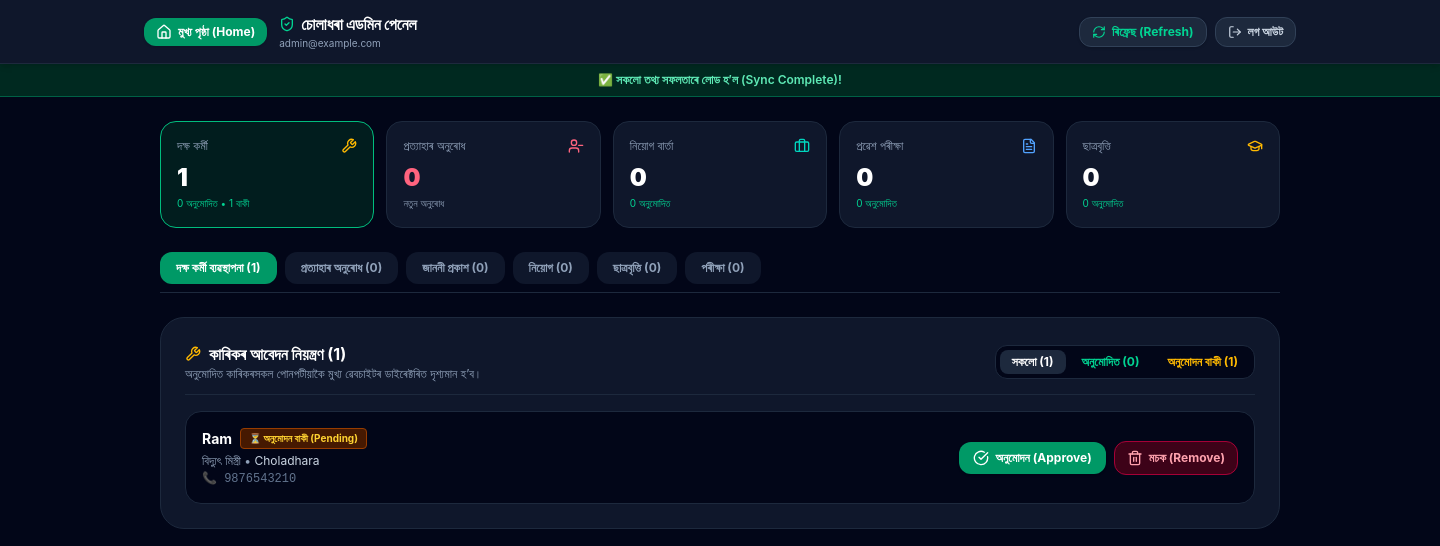
Scenario: Admin › says when an approval changed nothing (blocked by row-level security)
expect the text "✅ সকলো তথ্য সফলতাৰে লোড হ’ল (Sync Complete)!" is shown: met, box [0,64,1439,97]
Click the button "অনুমোদন (Approve)" at point(1033, 458), box [959,442,1106,474]
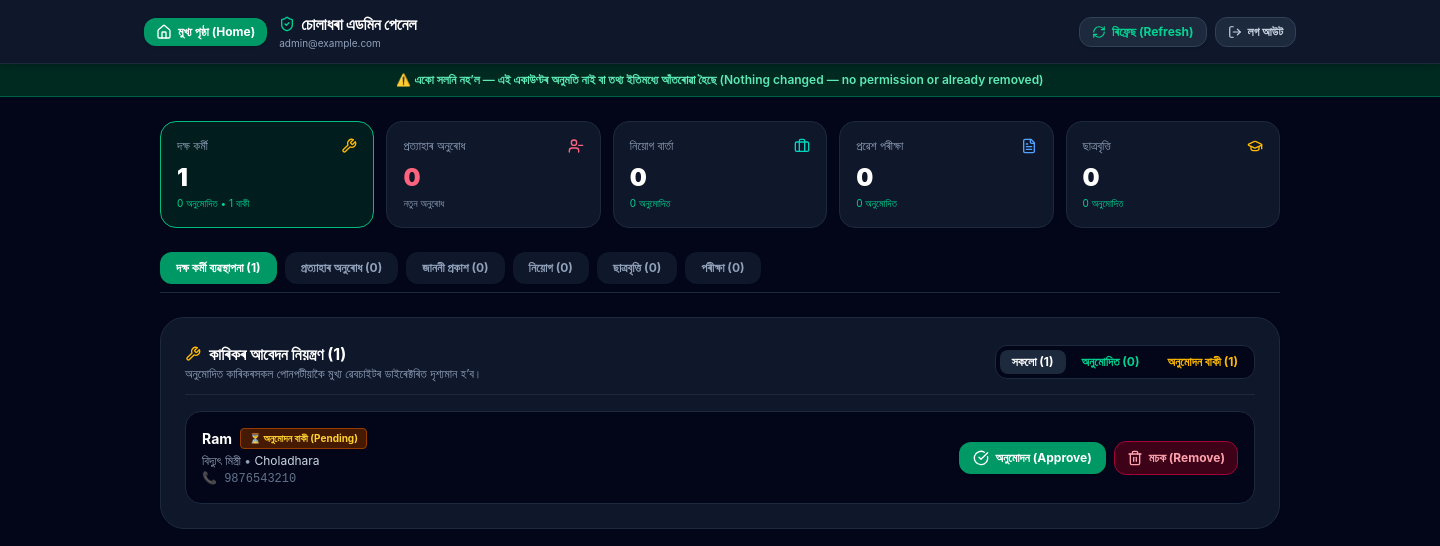
expect the text "Nothing changed" is shown: met, box [396,72,1044,87]
